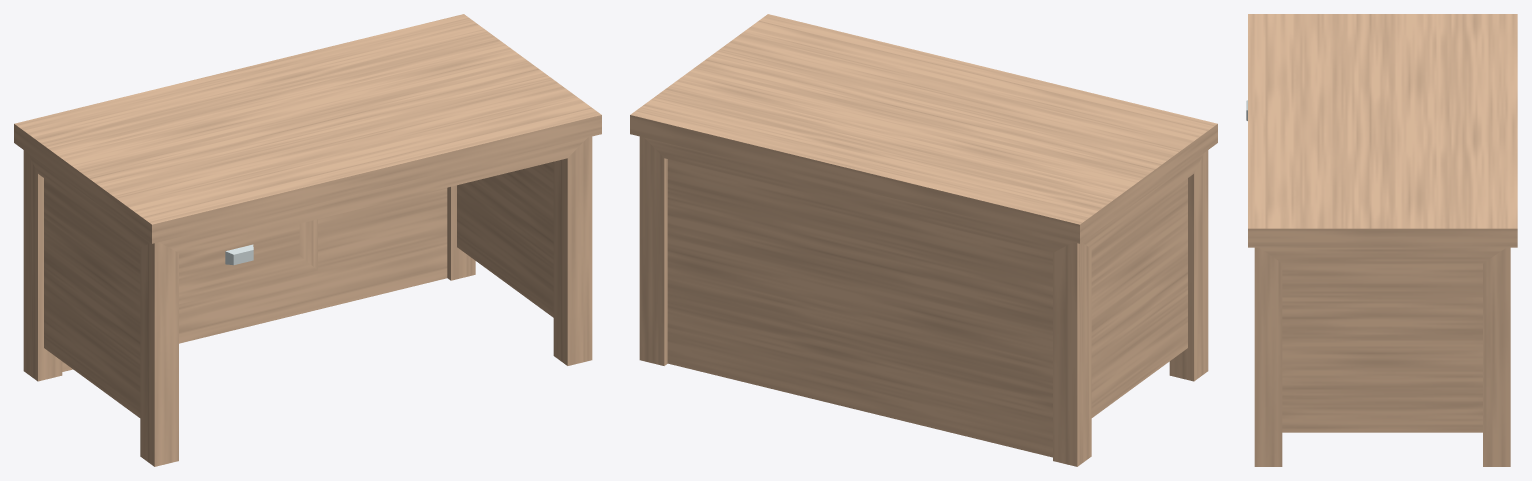
The model's file is desk.glb.
3 views of the same model, side by side, from view 1: azimuth 30°, elevation 25°; view 2: azimuth 150°, elevation 25°; view 3: azimuth 270°, elevation 25° (orthographic). The views are drawn at different scales.
Visible parts, largest first — view 1: desk; view 2: desk; view 3: desk.
Part boxes in pixels (left/top/right/bottom): desk: left=14, top=14, right=601, bottom=466; desk: left=630, top=14, right=1217, bottom=466; desk: left=1246, top=14, right=1517, bottom=466.
Size of the model in its own units: 0.7345 by 0.3844 by 0.3923.
Materials: 2 (1 with a texture image).
